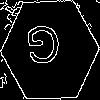G: (25, 25, 62, 73)
